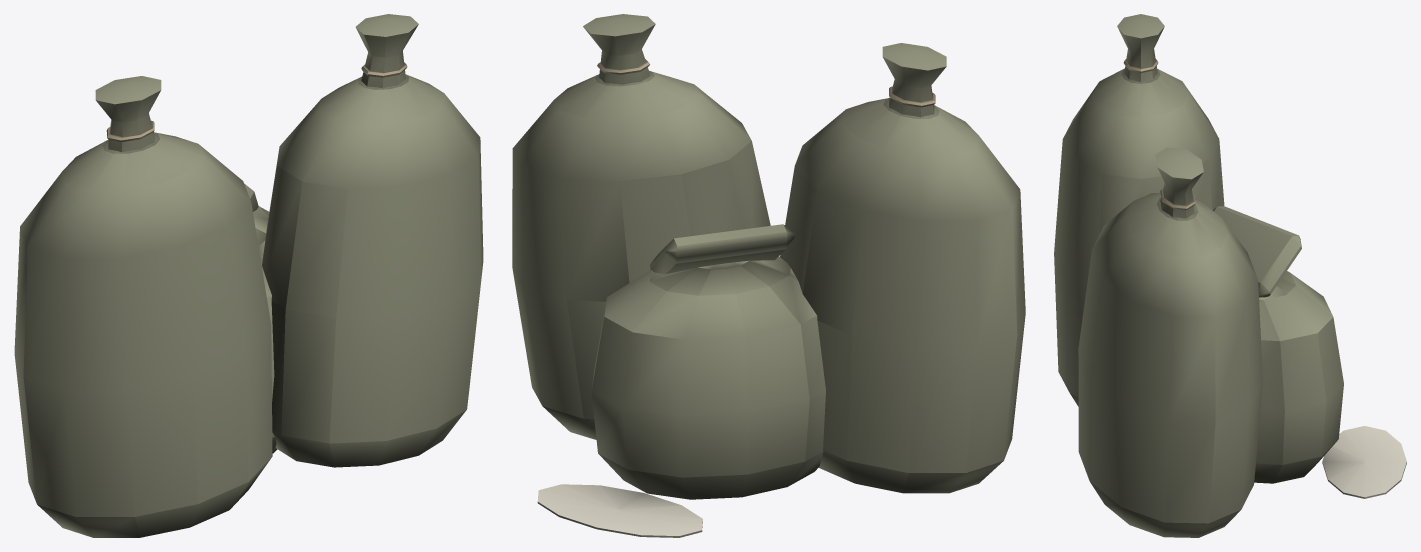
Rendered from flour_sacks.glb.
3 views of the same model, side by side, from view 1: azimuth 30°, elevation 25°; view 2: azimuth 150°, elevation 25°; view 3: azimuth 270°, elevation 25° (orthographic). The views are drawn at different scales.
Visible parts, largest first — view 1: static; view 2: static; view 3: static.
Boxes of the visible parts, x1,y1,x2,y2 form: static: (14,14,483,537); static: (512,14,1025,537); static: (1054,14,1406,537).
Size of the model in its own units: 0.795 by 0.6888 by 0.584.
